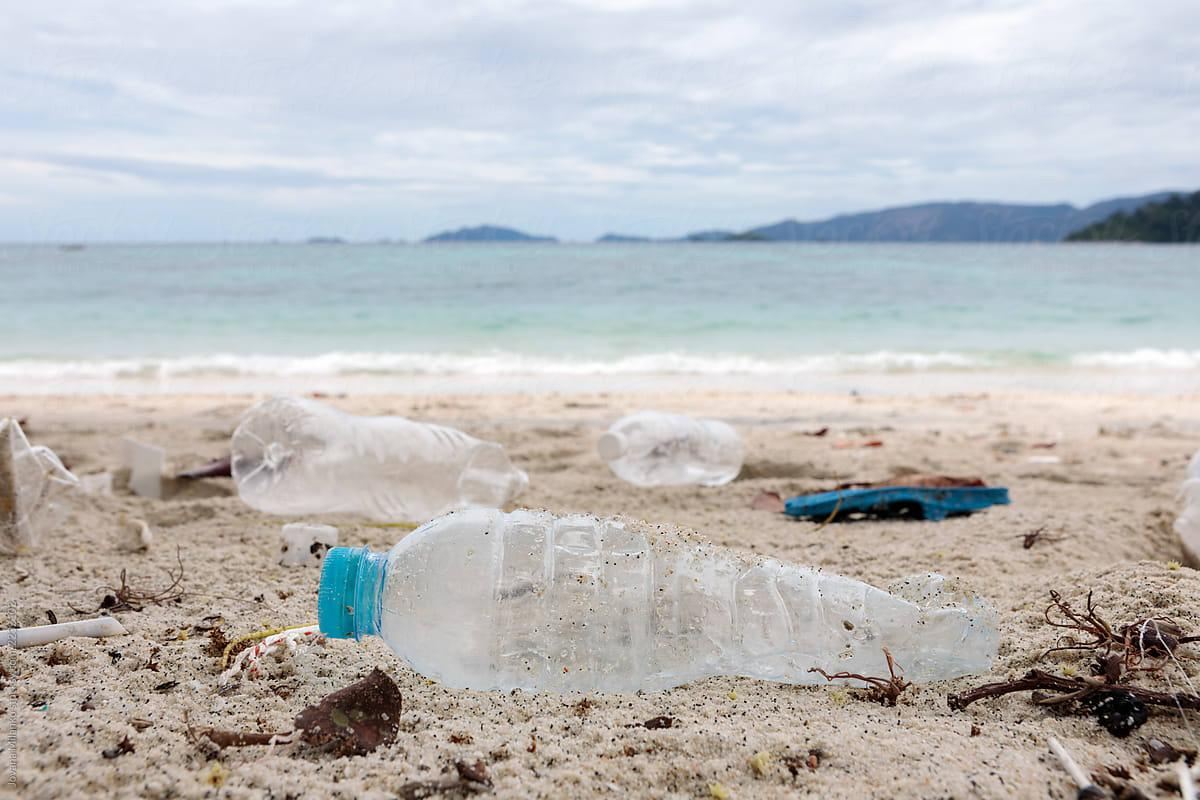bottle: (311, 520, 1026, 736)
